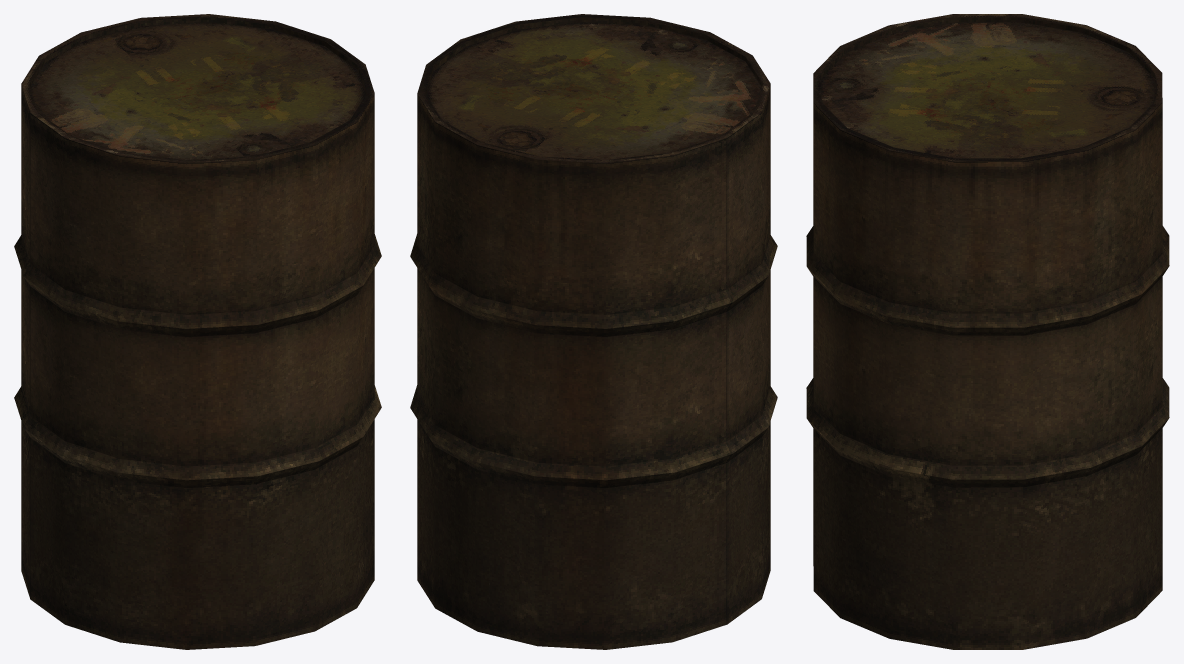
Rendered from metal_barrel_hr_1.glb.
3 views of the same model, side by side, from view 1: azimuth 30°, elevation 25°; view 2: azimuth 150°, elevation 25°; view 3: azimuth 270°, elevation 25° (orthographic).
Parts seen in each view (by area): view 1: metal_barrel_hr_1; view 2: metal_barrel_hr_1; view 3: metal_barrel_hr_1.
Boxes of the visible parts, box(x1,y1,x2,y2) form: metal_barrel_hr_1: box(14, 14, 381, 649); metal_barrel_hr_1: box(410, 14, 777, 649); metal_barrel_hr_1: box(806, 14, 1169, 649).
Bounding box in the file's own units: 0.6735 × 1 × 0.6735.
1 material, 1 textured.
